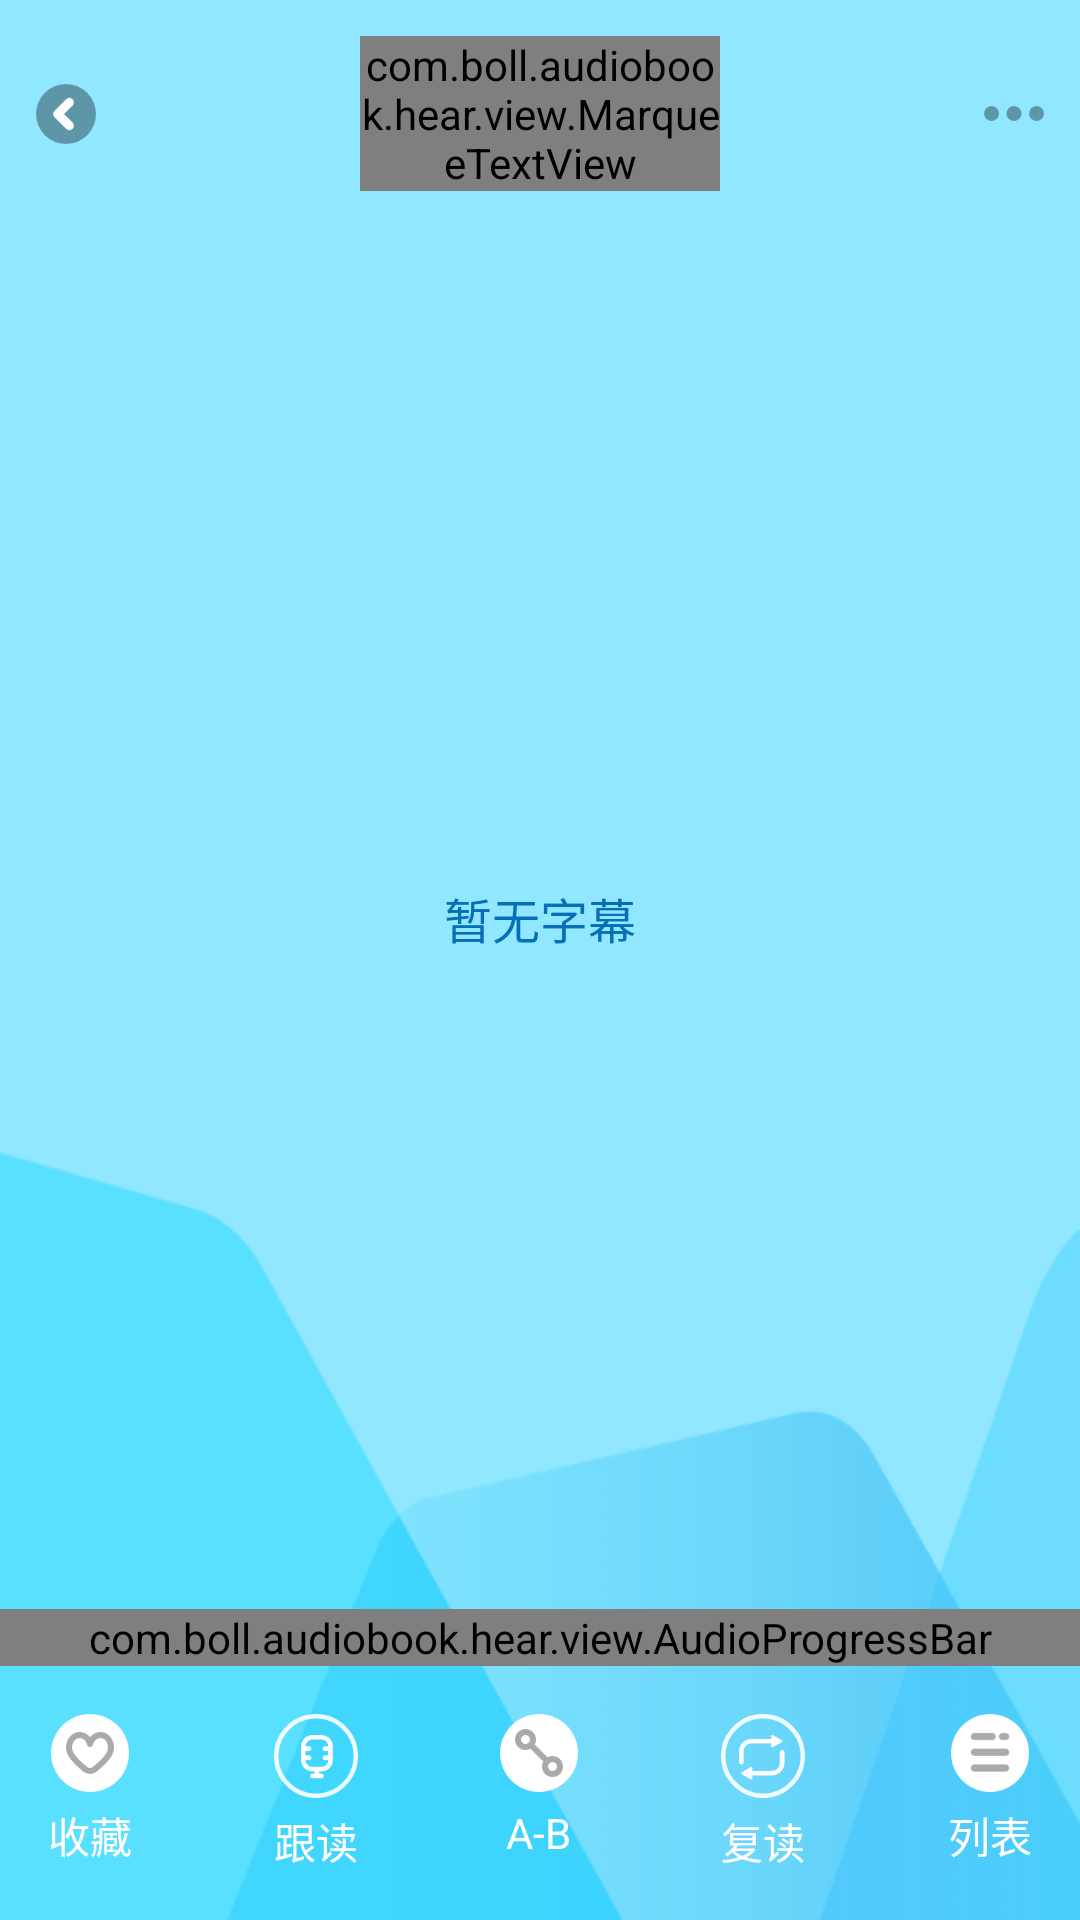

Icons on this 1080 x 1920 Android screen, each with the point to tap as (x,y):
back: (66,114)
setting: (1014,113)
single: (763,1756)
